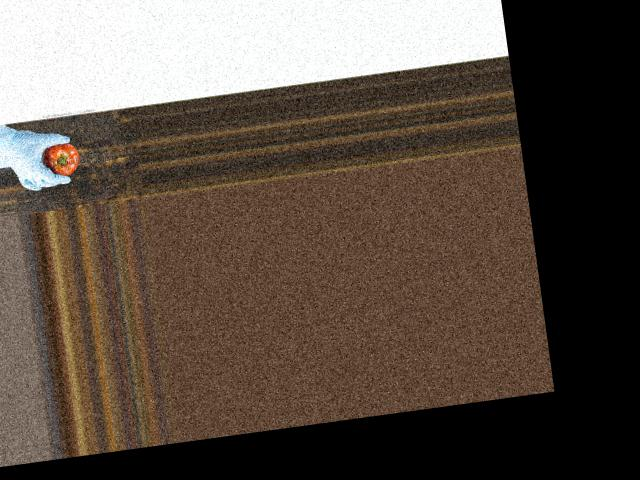tomato: (42, 141, 82, 178)
